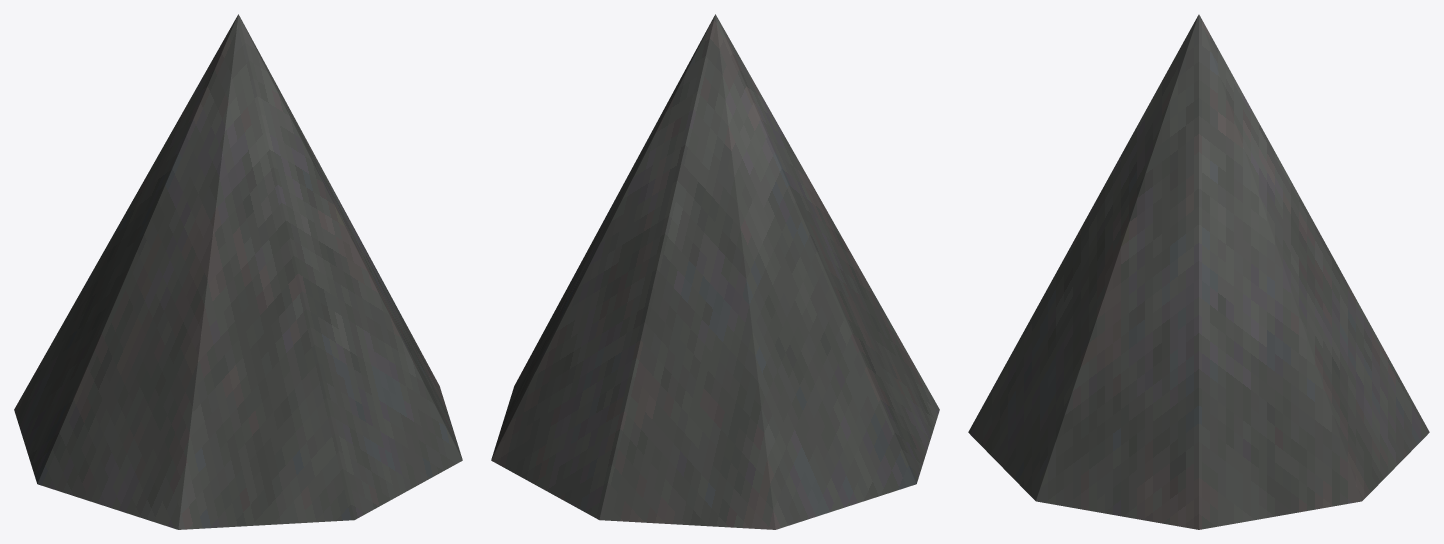
The model's file is lamp.metal.obj.
3 renders of one model, left to right at view 1: azimuth 30°, elevation 25°; view 2: azimuth 150°, elevation 25°; view 3: azimuth 270°, elevation 25°, orthographic.
Visible parts, largest first — view 1: Cone; view 2: Cone; view 3: Cone.
Part boxes in pixels (x1,y1,x2,y2): Cone: [14, 14, 462, 529]; Cone: [491, 14, 939, 529]; Cone: [968, 14, 1429, 529].
Bounding box in the file's own units: 2 × 2 × 2.
Materials: 1 (1 with a texture image).
